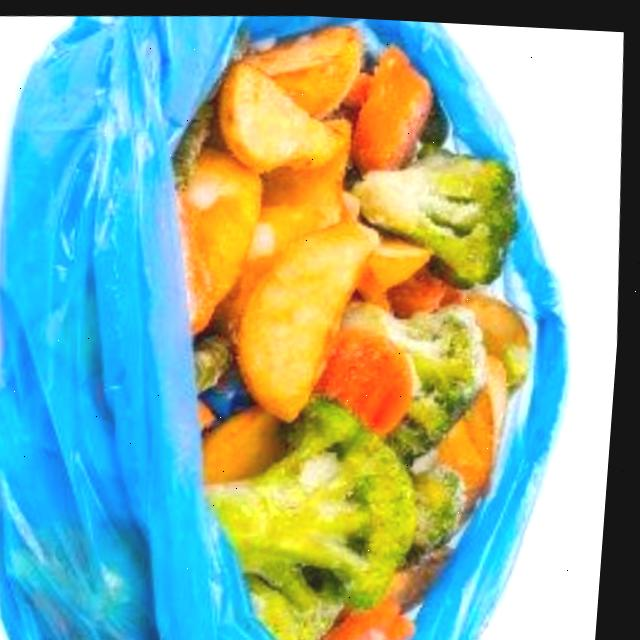Garbage: (181, 17, 540, 640)
